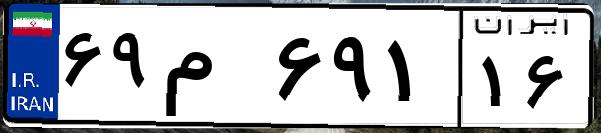1: (385, 28, 445, 110), (475, 38, 525, 113)
6: (270, 28, 330, 110), (57, 26, 110, 100), (525, 38, 570, 115)
9: (330, 28, 385, 110), (110, 28, 158, 98)
م: (158, 20, 270, 120)
